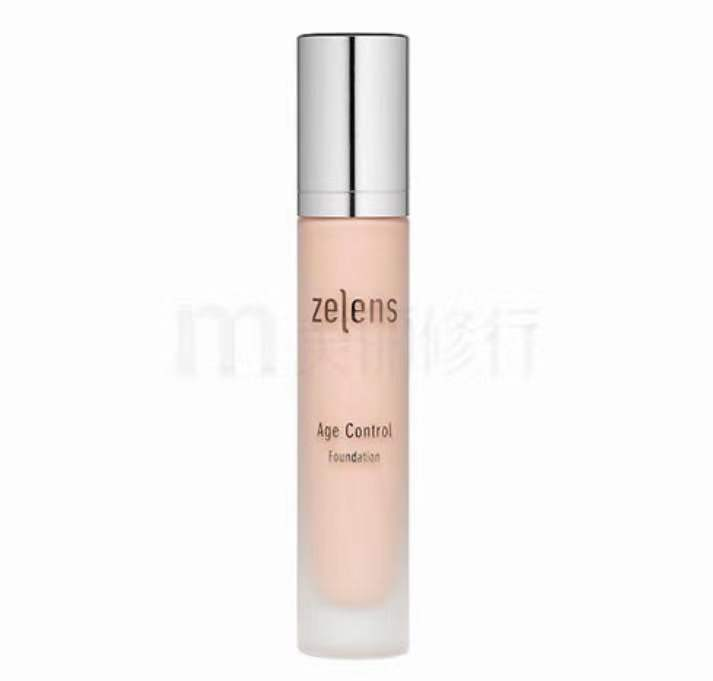cosmetic: (296, 31, 413, 658)
